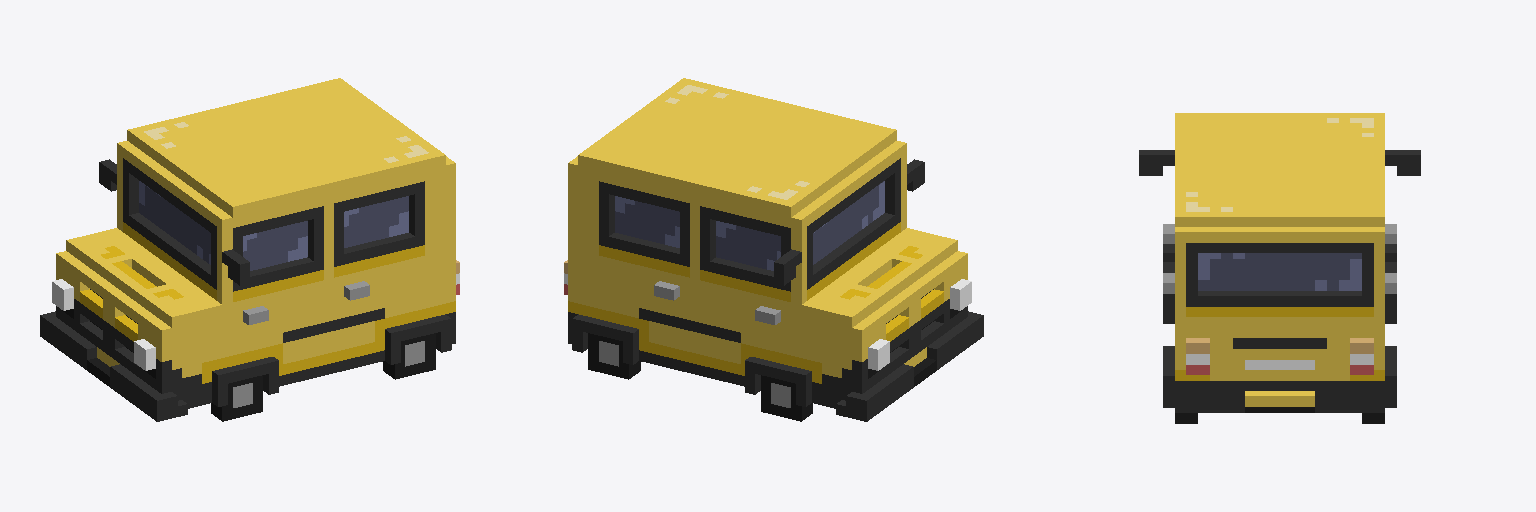
3 views of the same model, side by side, from view 1: azimuth 30°, elevation 25°; view 2: azimuth 150°, elevation 25°; view 3: azimuth 270°, elevation 25° (orthographic).
Parts seen in each view (by area): view 1: Box_91; view 2: Box_91; view 3: Box_91.
Boxes of the visible parts, box(x1,y1,x2,y2) form: Box_91: box(40, 78, 459, 421); Box_91: box(564, 78, 983, 421); Box_91: box(1139, 113, 1420, 423).
Bounding box in the file's own units: 31 × 20 × 24.
1 materials, 1 textured.